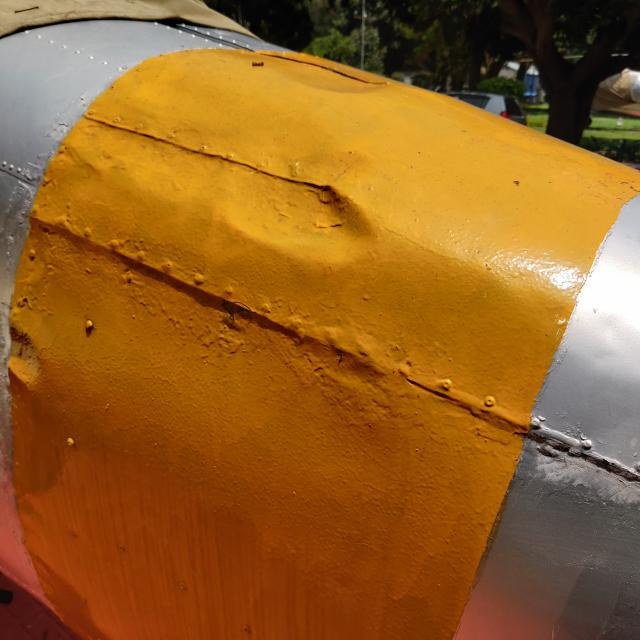dent: (218, 143, 399, 296)
